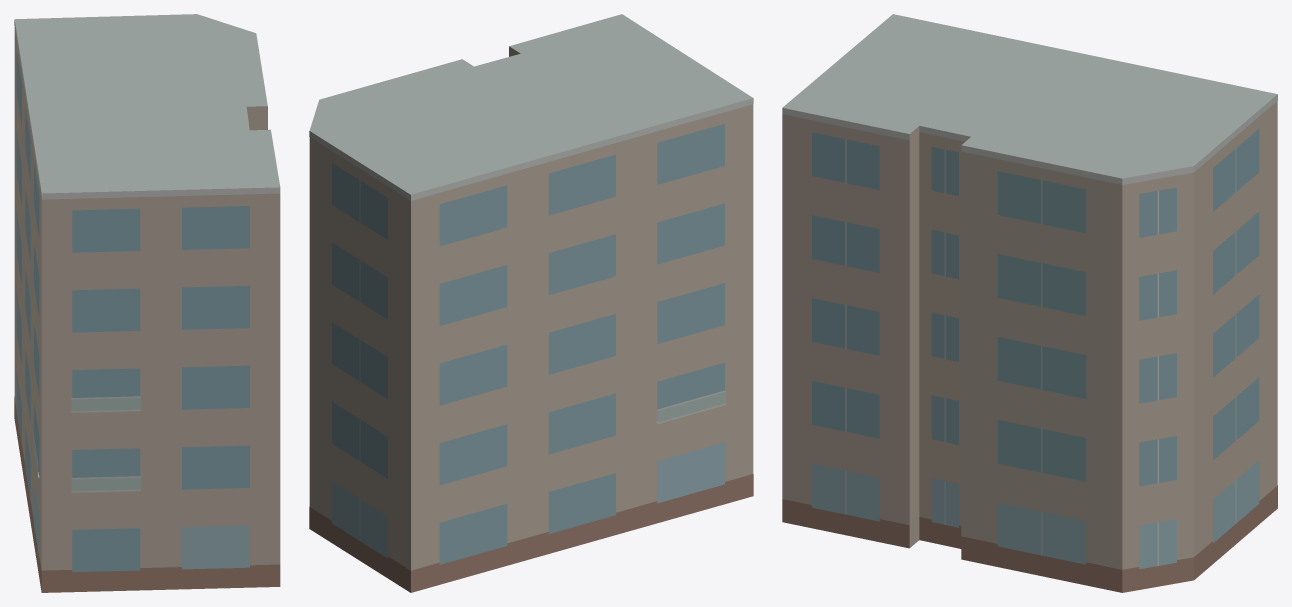
The model's file is survey-upis-32524651.glb.
3 views of the same model, side by side, from view 1: azimuth 30°, elevation 25°; view 2: azimuth 150°, elevation 25°; view 3: azimuth 270°, elevation 25° (orthographic). The views are drawn at different scales.
Parts seen in each view (by area): view 1: survey-upis-32524651.tmp; view 2: survey-upis-32524651.tmp; view 3: survey-upis-32524651.tmp.
Part boxes in pixels (x1,y1,x2,y2): survey-upis-32524651.tmp: [14, 14, 280, 592]; survey-upis-32524651.tmp: [309, 14, 753, 592]; survey-upis-32524651.tmp: [782, 14, 1277, 592].
Bounding box in the file's own units: 13.6 × 15.95 × 17.3.
